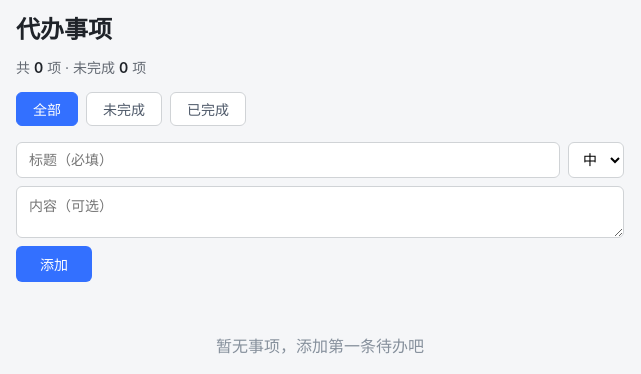
App 集成 › 删除事项需 confirm 确认
Type "待删除" into the field named "标题" at (288, 160), box [16, 142, 560, 178]
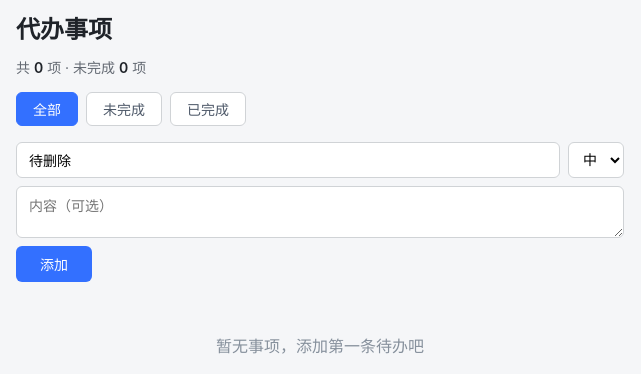
Submit the form, box [16, 142, 624, 282]
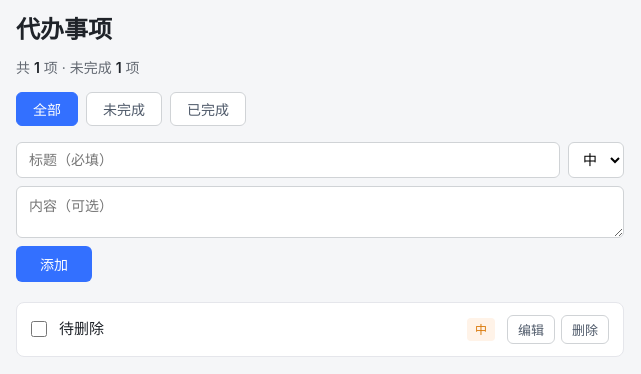
Click the button "删除" at (585, 329), box [561, 315, 609, 344]
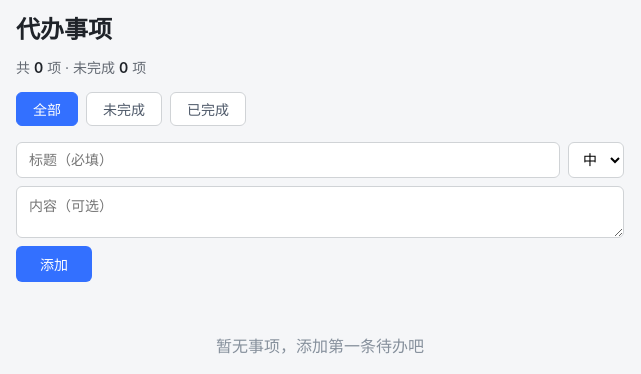
expect the text "待删除" is gone: met
expect the text "共 0 项" is shown: met, box [16, 59, 146, 76]
